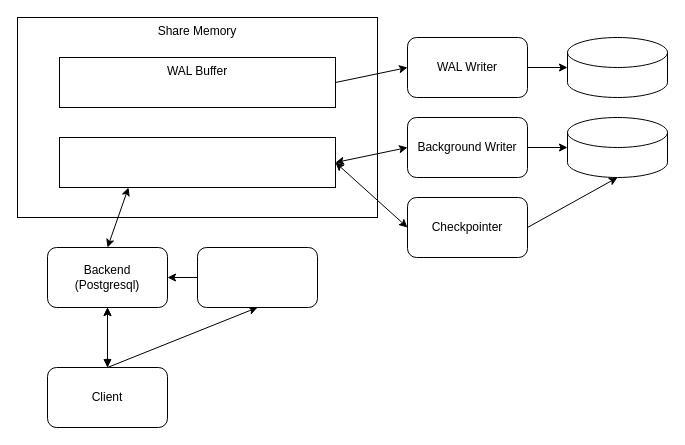
This 685x445 diagram has some shape labels left out. The shapes that lost their labels are listed below. From the top down, each one's centre as x and y in pixels, then its label:
the point at 617,67: WAL File
the point at 197,162: Shared Buffer
the point at 617,147: Data File
the point at 257,277: Daemon Porcess (Postmaster)
